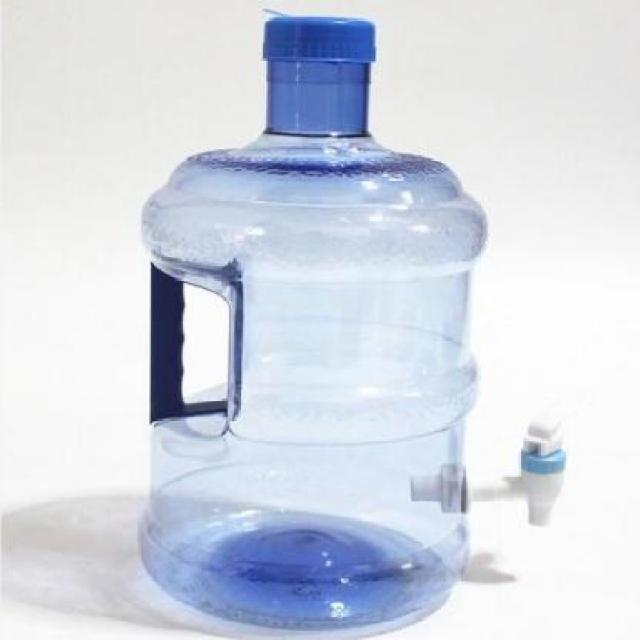coolerbottle: (132, 12, 493, 640)
